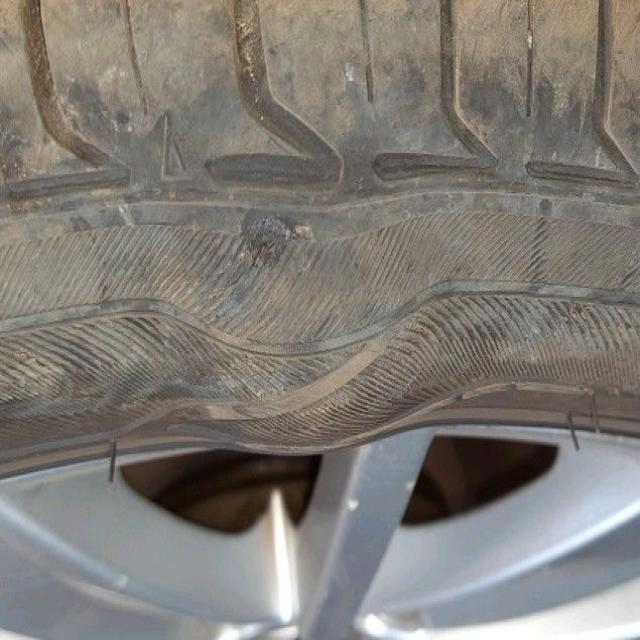Bulge: (182, 252, 436, 470)
